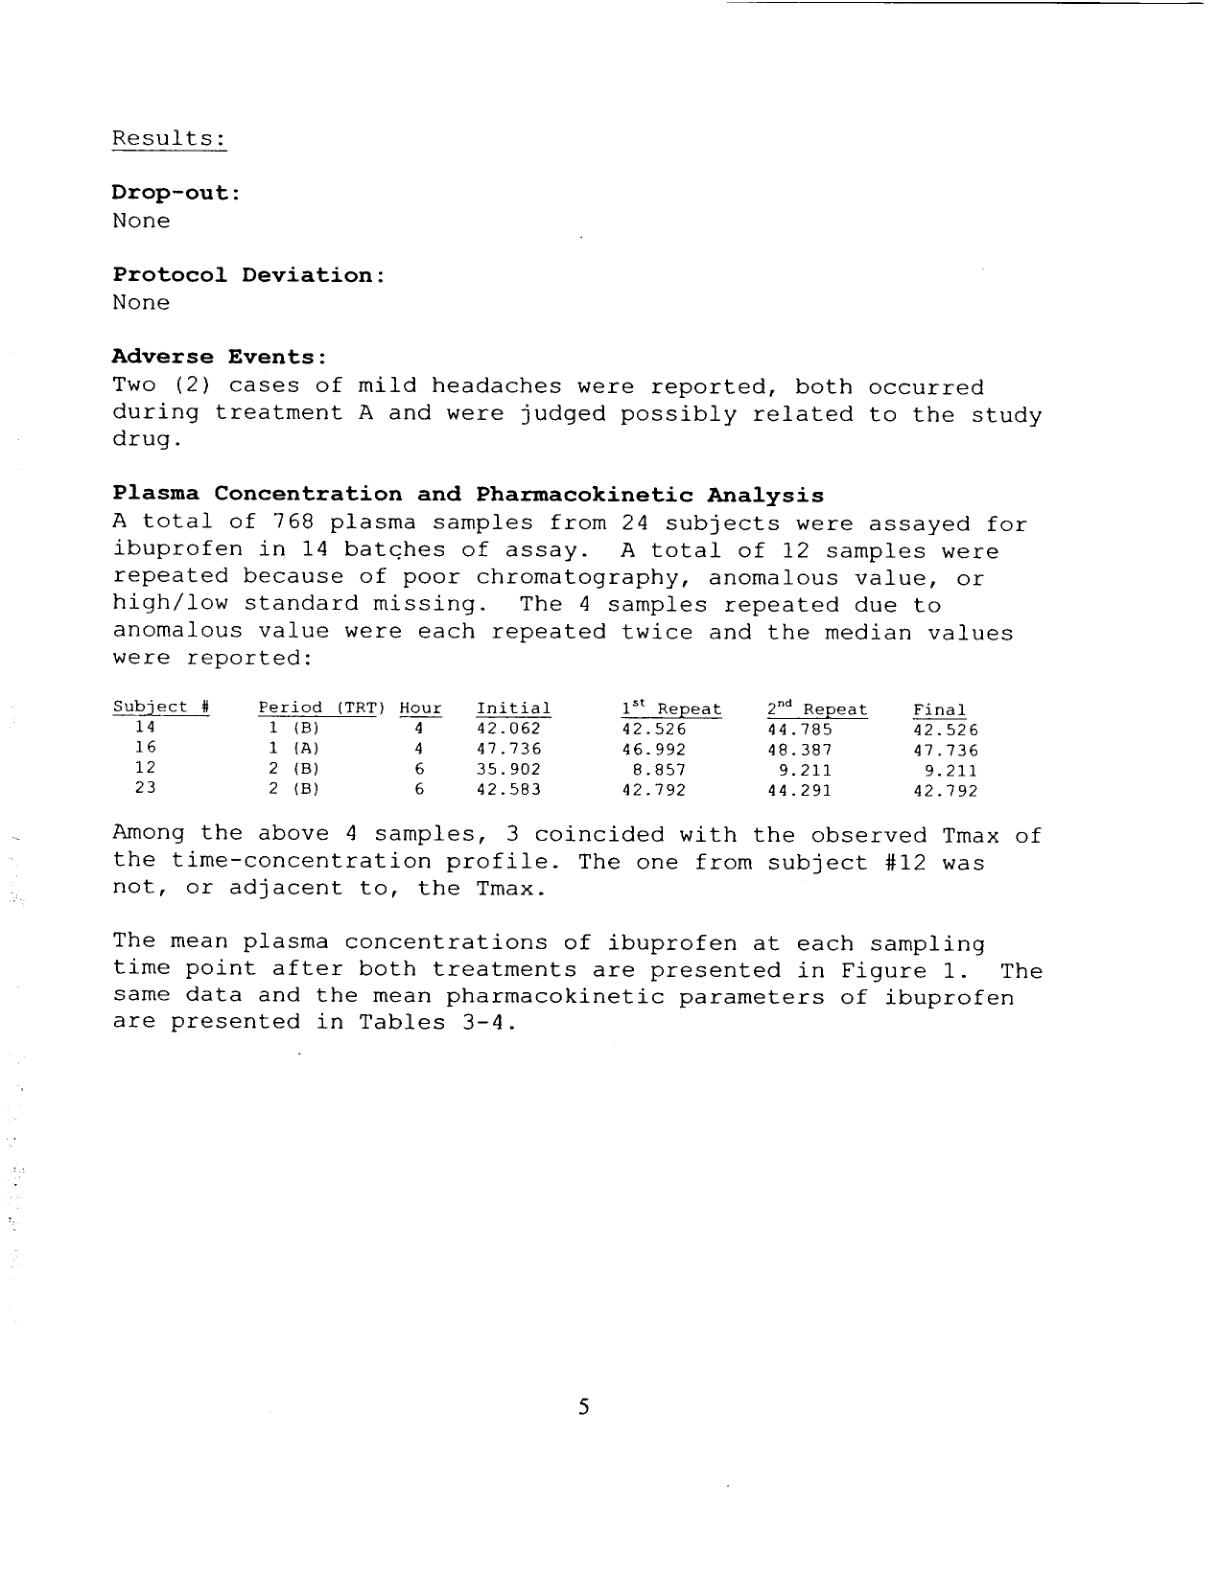nolines: (110, 695, 981, 800)
